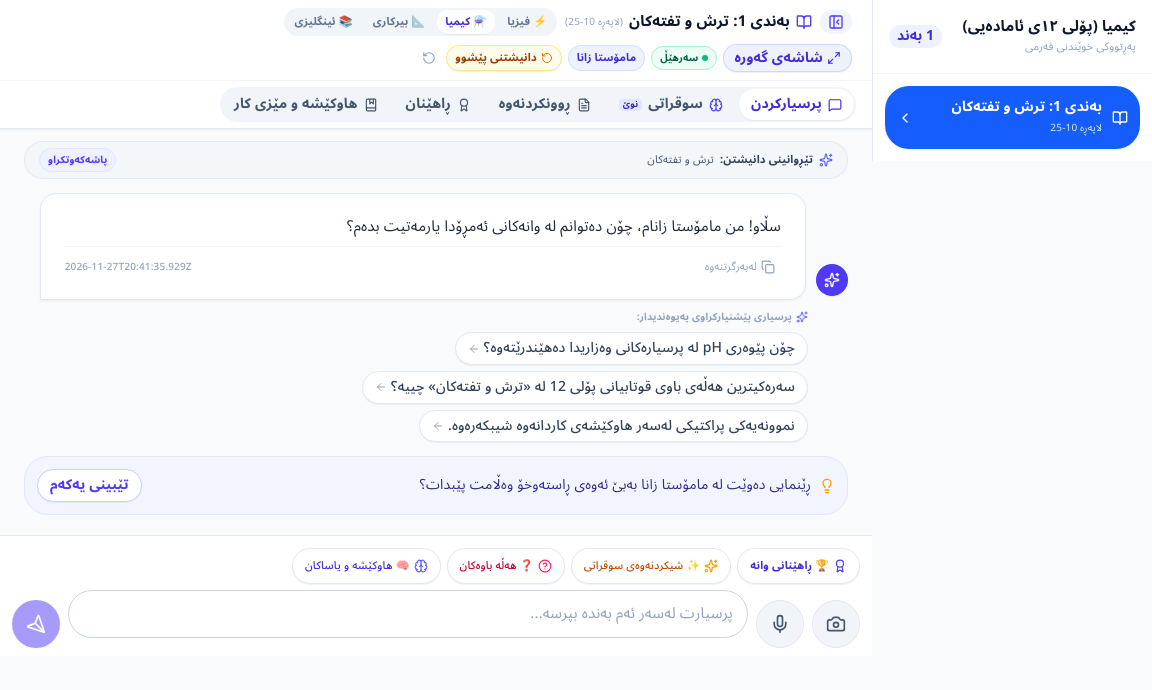
Test: Chat / AI Tutor Component Tests › 3. Switches Dual View mode between Tutor Chat and Desk Resources (مێزی وانە)
Click the button "هاوکێشە و مێزی کار" at (306, 105), box [222,90,390,120]
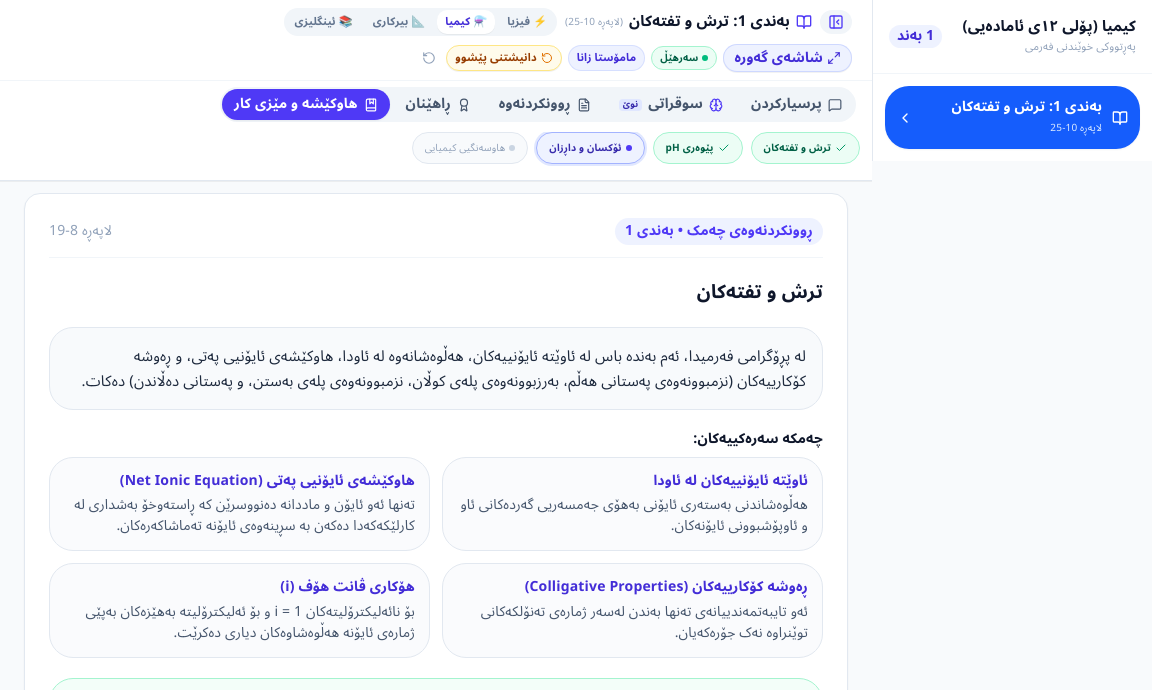
Click the button "پرسیارکردن" at (796, 105), box [739,90,854,120]
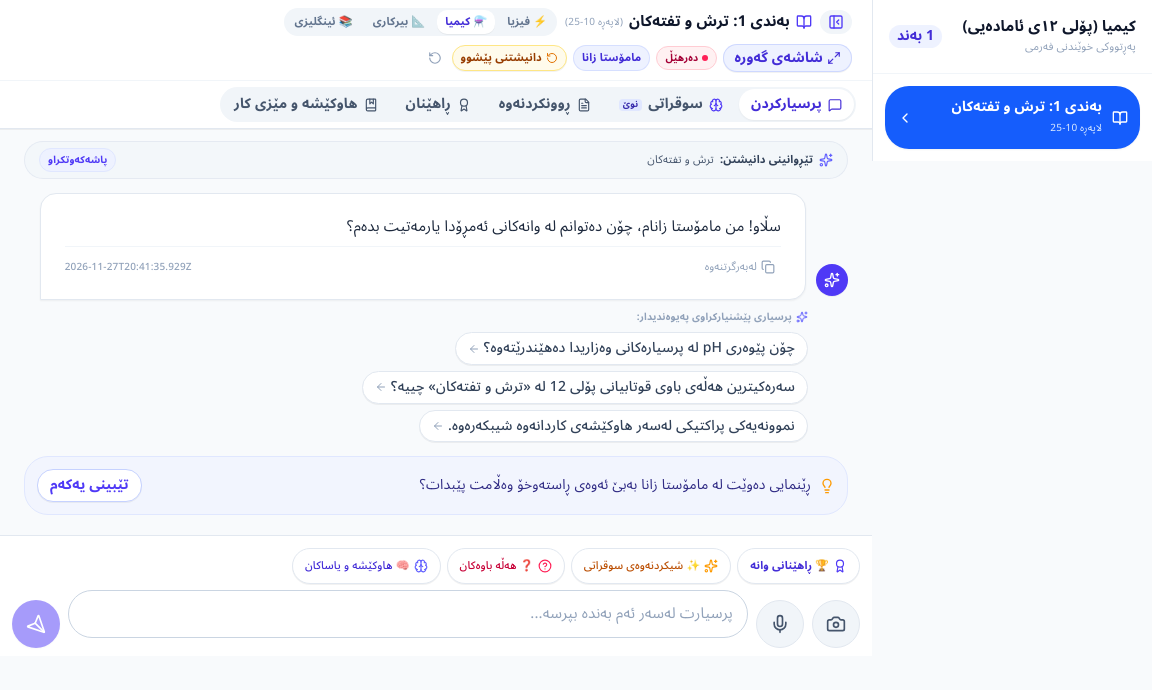
Expected: the text "سڵاو! من مامۆستا زانام" is shown, [347,210,781,242]
